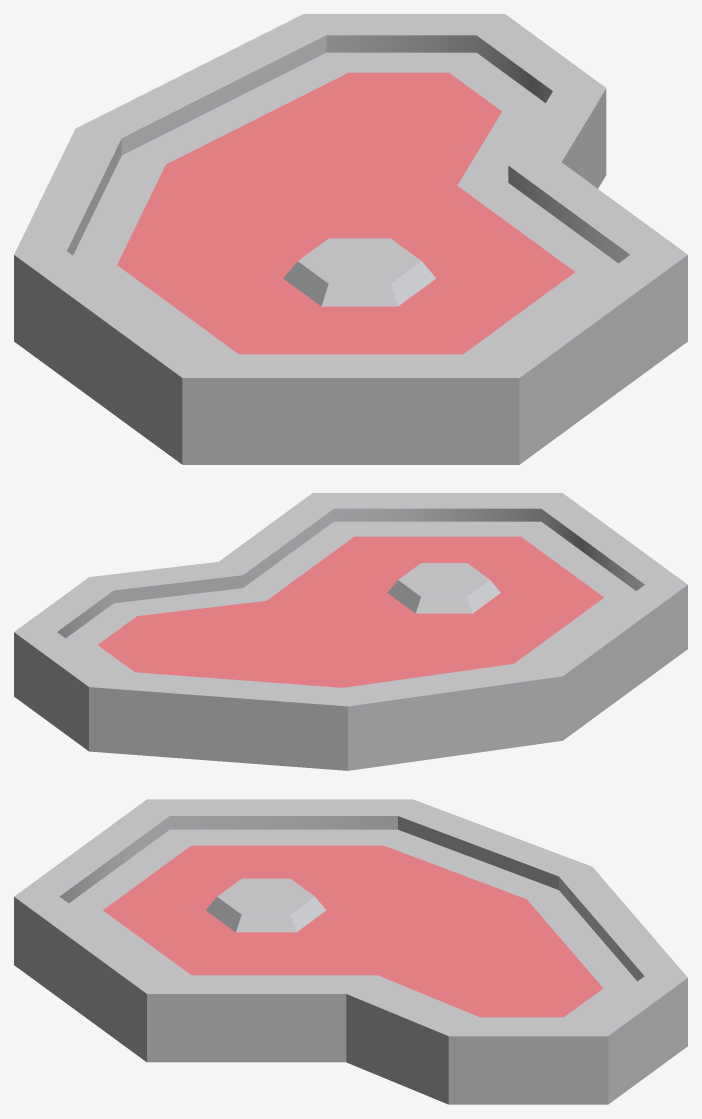
Rendered from meatRaw.dae.
3 views of the same model, one above another, from view 1: azimuth 30°, elevation 25°; view 2: azimuth 150°, elevation 25°; view 3: azimuth 270°, elevation 25° (orthographic). The views are drawn at different scales.
Visible parts, largest first — view 1: meatRaw; view 2: meatRaw; view 3: meatRaw.
Boxes of the visible parts, x1,y1,x2,y2 form: meatRaw: (14, 14, 687, 464); meatRaw: (14, 493, 687, 770); meatRaw: (14, 799, 687, 1104).
Bounding box in the file's own units: 0.4785 × 0.0645 × 0.5754.
